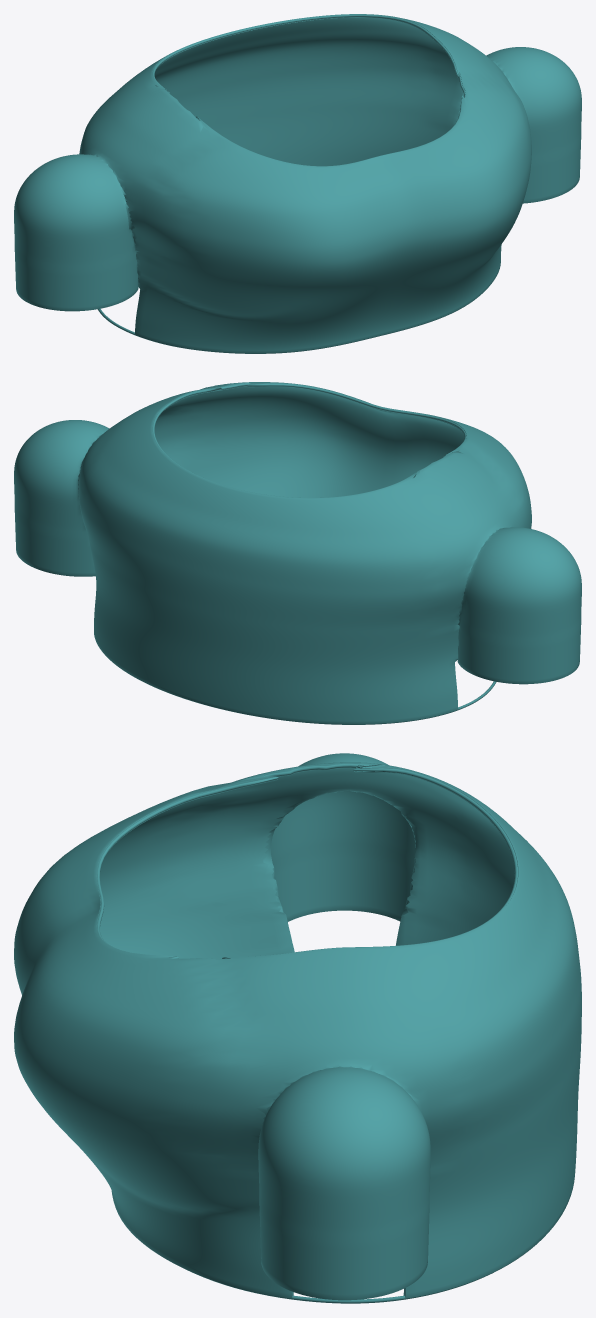
File: Feminine-tshirt-top.glb
3 views of the same model, one above another, from view 1: azimuth 30°, elevation 25°; view 2: azimuth 150°, elevation 25°; view 3: azimuth 270°, elevation 25° (orthographic). The views are drawn at different scales.
Visible parts, largest first — view 1: Clothing / study continuous T-shirt, Neckline / study seated binding export, Shirt / seated hem export; view 2: Clothing / study continuous T-shirt, Neckline / study seated binding export, Shirt / seated hem export; view 3: Clothing / study continuous T-shirt, Neckline / study seated binding export, Shirt / seated hem export.
Boxes of the visible parts, x1=… form: Clothing / study continuous T-shirt: x1=14, y1=14, x2=581, y2=353; Neckline / study seated binding export: x1=152, y1=14, x2=465, y2=166; Shirt / seated hem export: x1=98, y1=293, x2=482, y2=353; Clothing / study continuous T-shirt: x1=14, y1=382, x2=581, y2=724; Neckline / study seated binding export: x1=152, y1=383, x2=466, y2=498; Shirt / seated hem export: x1=110, y1=660, x2=496, y2=724; Clothing / study continuous T-shirt: x1=14, y1=753, x2=581, y2=1300; Neckline / study seated binding export: x1=97, y1=763, x2=517, y2=959; Shirt / seated hem export: x1=139, y1=1240, x2=540, y2=1303.
Bounding box in the file's own units: 0.9075 × 0.3396 × 0.5525.
